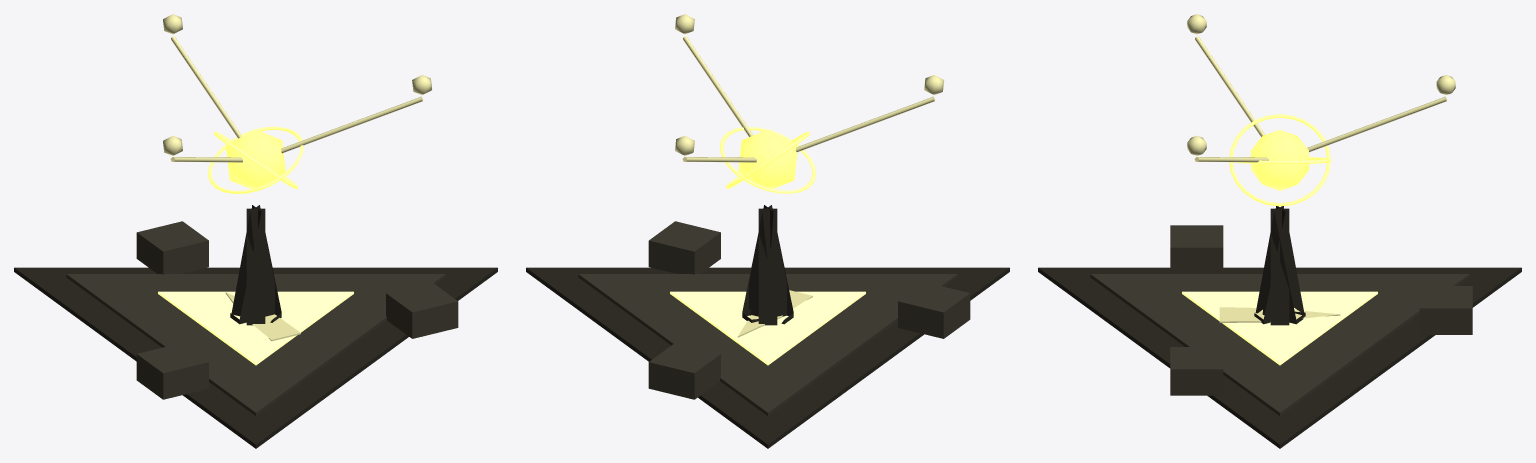
Rendered from ThunderBoostPad_Roblox.fbx.
3 views of the same model, side by side, from view 1: azimuth 30°, elevation 25°; view 2: azimuth 150°, elevation 25°; view 3: azimuth 270°, elevation 25° (orthographic).
Visible parts, largest first — view 1: TrimPlate, DarkPlate, BoostPad, AccentNeon, EnergyGlow, EnergyGlass; view 2: TrimPlate, DarkPlate, BoostPad, AccentNeon, EnergyGlow, EnergyGlass; view 3: TrimPlate, DarkPlate, BoostPad, AccentNeon, EnergyGlow, EnergyGlass.
Boxes of the visible parts, bbox=[...] form: TrimPlate: bbox=[66, 221, 458, 415]; DarkPlate: bbox=[14, 205, 497, 448]; BoostPad: bbox=[158, 291, 353, 365]; AccentNeon: bbox=[163, 14, 431, 341]; EnergyGlow: bbox=[226, 129, 285, 188]; EnergyGlass: bbox=[208, 126, 303, 193]; TrimPlate: bbox=[578, 221, 970, 415]; DarkPlate: bbox=[526, 205, 1009, 448]; BoostPad: bbox=[670, 291, 865, 365]; AccentNeon: bbox=[675, 14, 944, 337]; EnergyGlow: bbox=[738, 129, 797, 188]; EnergyGlass: bbox=[720, 127, 815, 193]; TrimPlate: bbox=[1090, 225, 1472, 415]; DarkPlate: bbox=[1038, 206, 1521, 448]; BoostPad: bbox=[1182, 291, 1377, 365]; AccentNeon: bbox=[1187, 14, 1455, 322]; EnergyGlow: bbox=[1251, 129, 1308, 190]; EnergyGlass: bbox=[1229, 114, 1330, 206].
Bounding box in the file's own units: 1191 × 990 × 1282.
